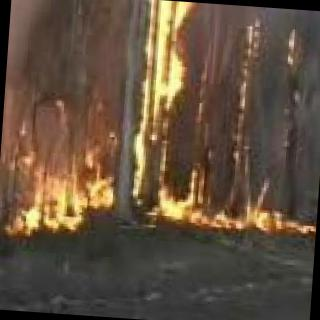fire: (120, 0, 194, 231), (0, 142, 124, 235), (191, 175, 312, 242), (233, 14, 263, 148), (284, 28, 300, 82)
